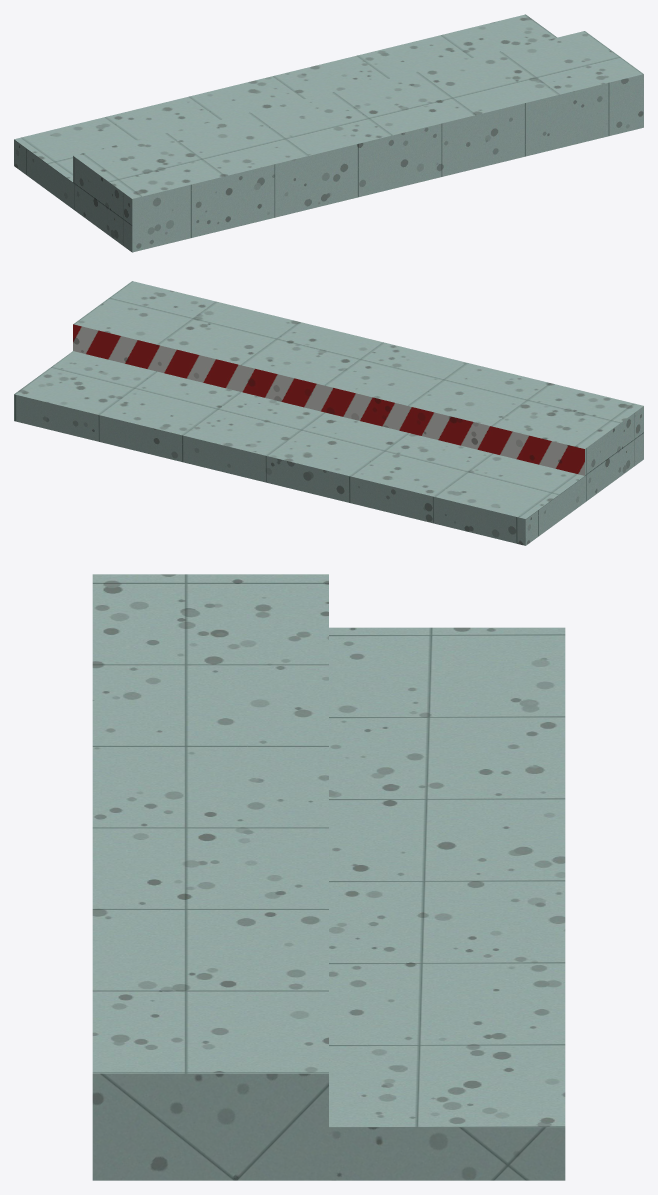
File: HospitalStair.fbx
The picture shows the model from 3 angles, top to bottom: view 1: azimuth 30°, elevation 25°; view 2: azimuth 150°, elevation 25°; view 3: azimuth 270°, elevation 25°; orthographic projection. The views are drawn at different scales.
Parts seen in each view (by area): view 1: StairsHospital; view 2: StairsHospital; view 3: StairsHospital.
Part boxes in pixels (<box>): StairsHospital: <box>14,14,643,252</box>; StairsHospital: <box>14,281,643,545</box>; StairsHospital: <box>92,574,565,1180</box>.
Bounding box in the file's own units: 500 × 50 × 200.
